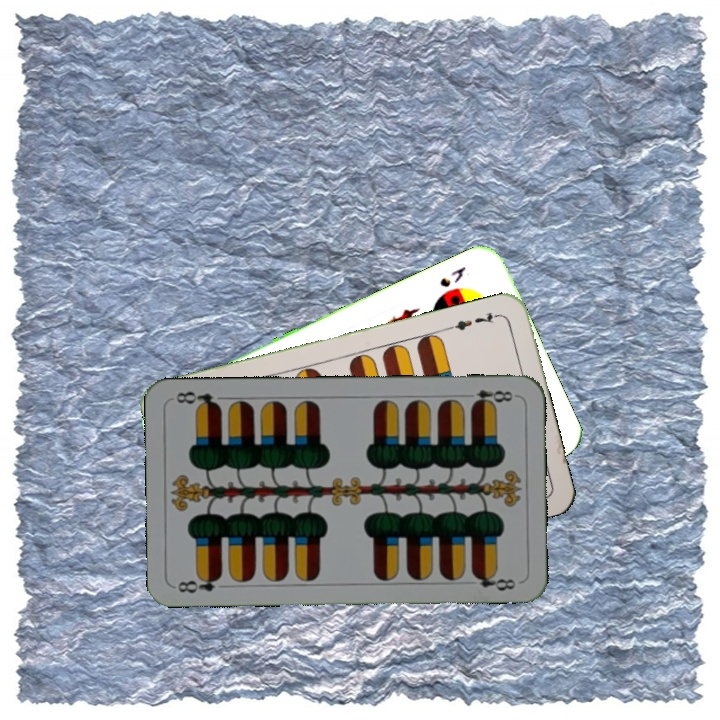E7: (444, 308, 503, 334)
E8: (460, 386, 519, 409), (174, 571, 225, 596)
SK: (435, 262, 468, 290)
